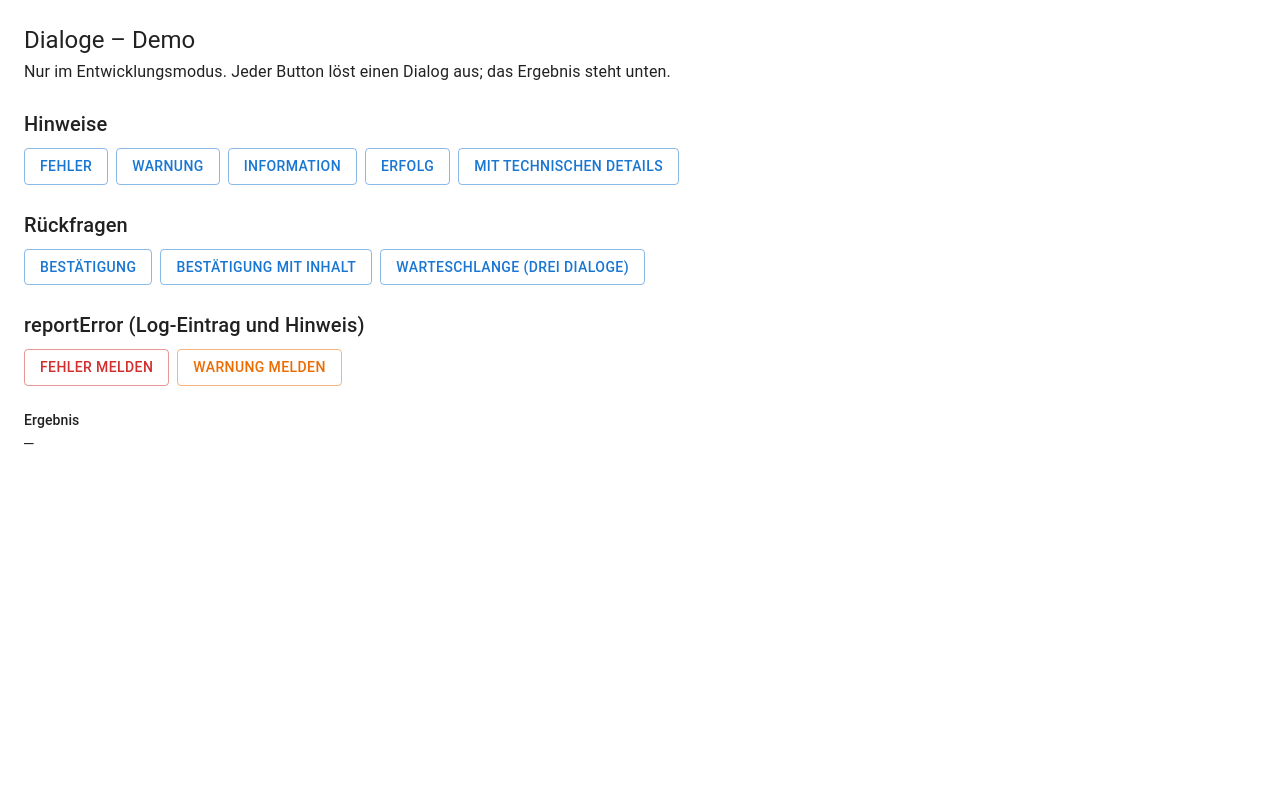
Test: DialogDemo › opens an alert with technical details
Click the button with test id "app.dialog-demo-alert-details" at (569, 166), box x1=458 y1=148 x2=679 y2=184
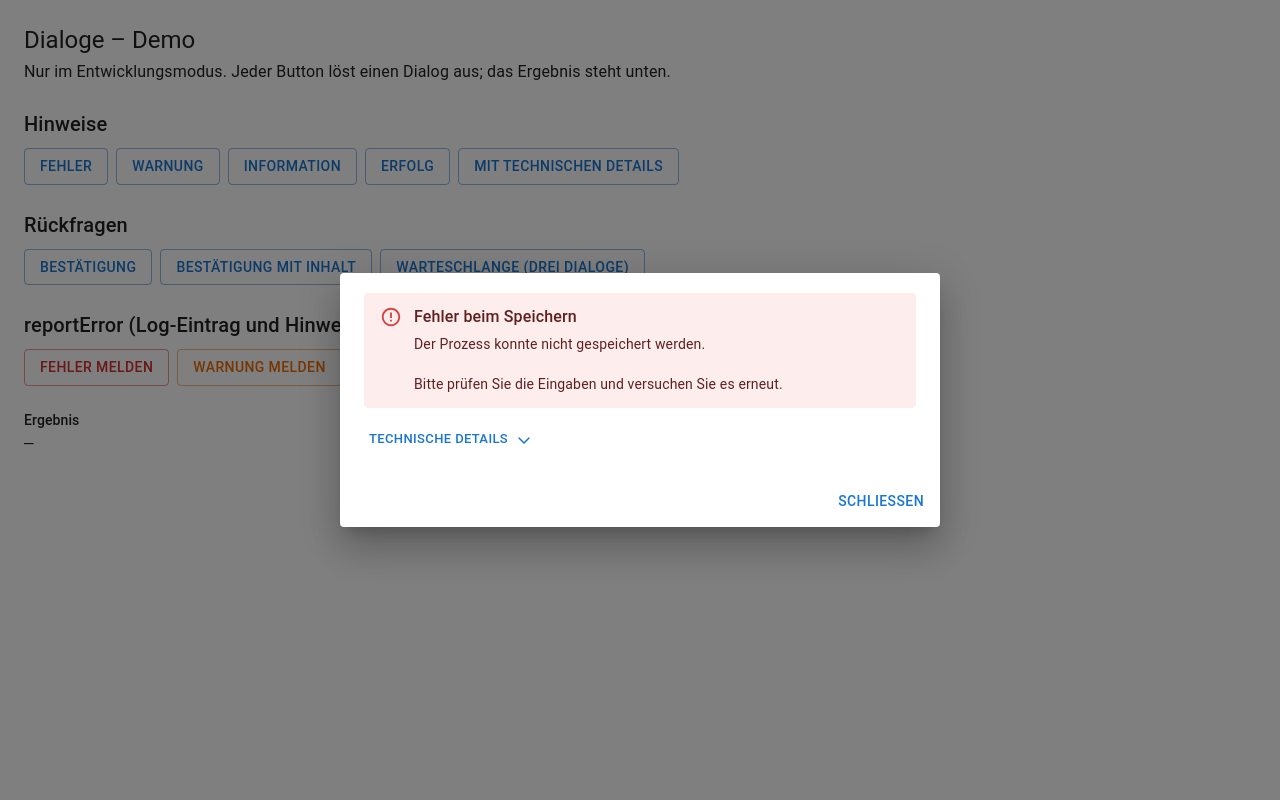
Check: the button with test id "core.modal-details-toggle" is shown
Click the button with test id "core.modal-details-toggle" at (450, 440), box x1=364 y1=424 x2=535 y2=455
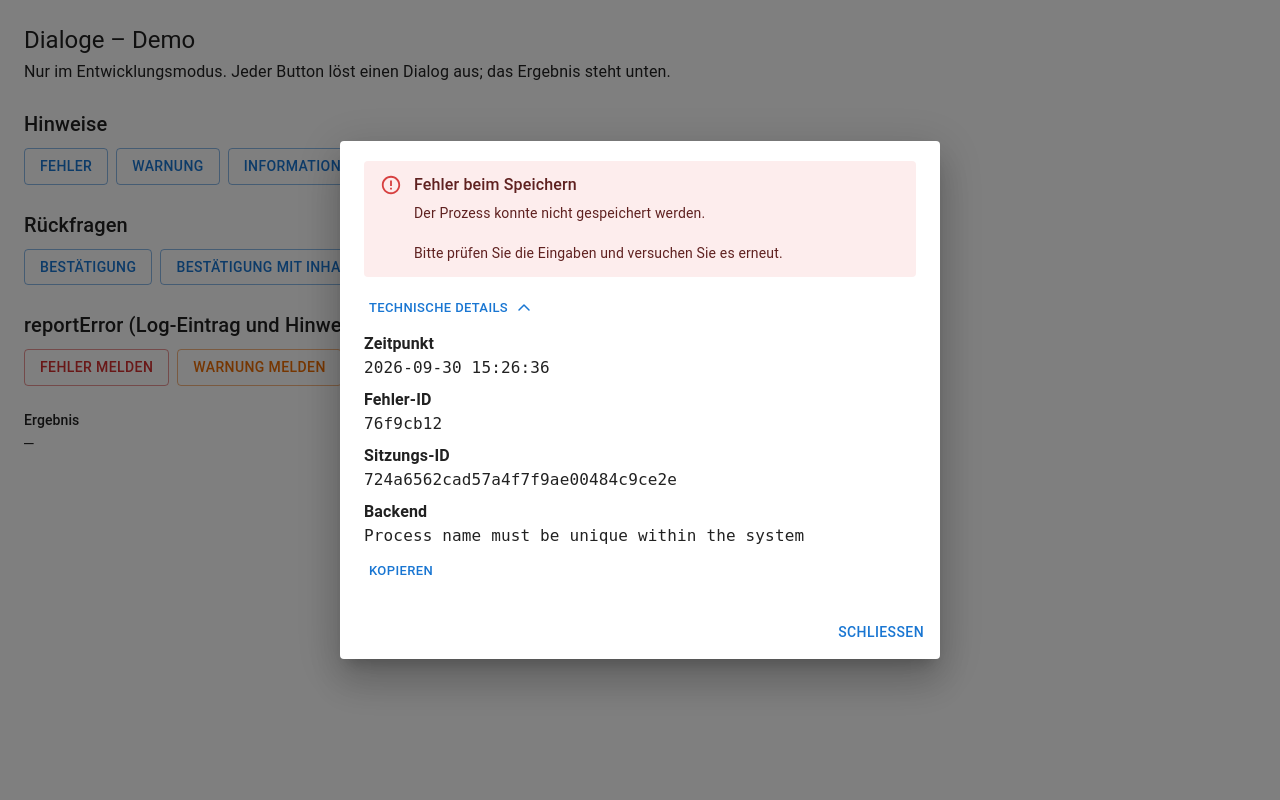
Check: the element with test id "core.modal-details" shows "Fehler-ID", box x1=364 y1=390 x2=432 y2=409
